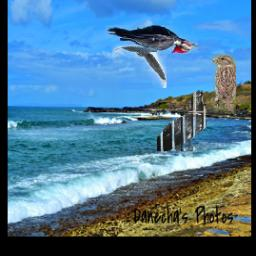Crow: (157, 90, 207, 151), (111, 42, 167, 89)
Sparrow: (211, 55, 236, 115)
Woodpecker: (107, 26, 199, 55)
